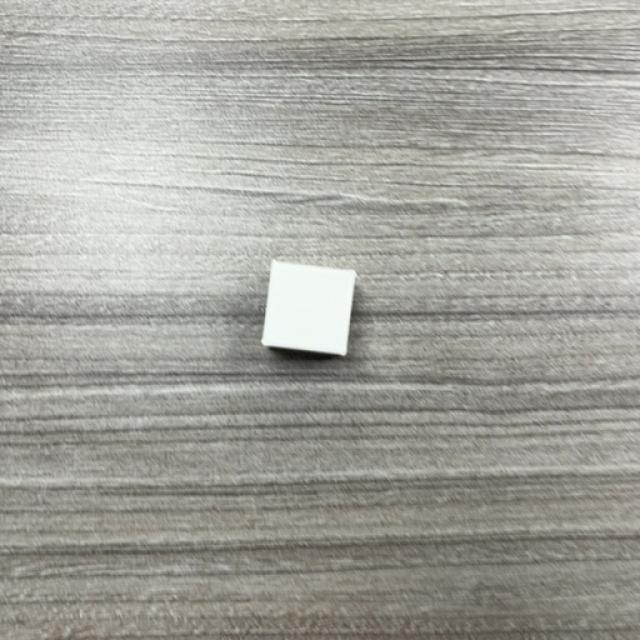Blanco: (260, 261, 356, 359)
